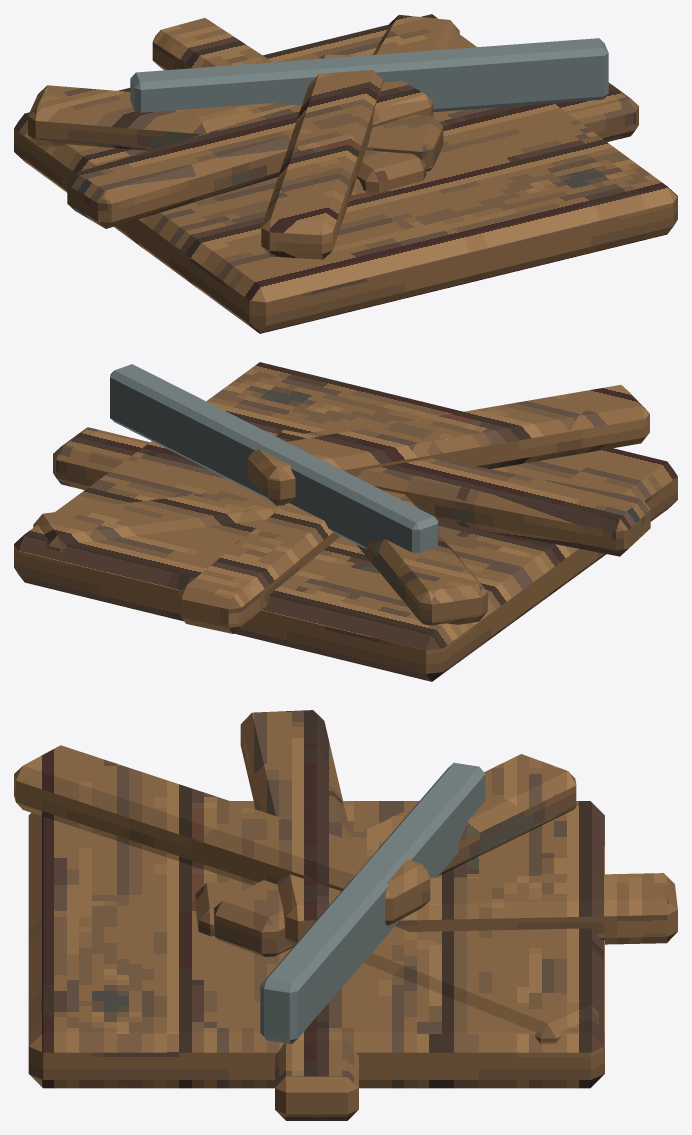
Rendered from caixa_quebrada.glb.
3 renders of one model, top to bottom at view 1: azimuth 30°, elevation 25°; view 2: azimuth 150°, elevation 25°; view 3: azimuth 270°, elevation 25°, orthographic. The views are drawn at different scales.
Visible parts, largest first — view 1: pedreira_caixa_quebrada; view 2: pedreira_caixa_quebrada; view 3: pedreira_caixa_quebrada.
Boxes of the visible parts, left/top/right/bottom form: pedreira_caixa_quebrada: left=14, top=14, right=677, bottom=333; pedreira_caixa_quebrada: left=14, top=362, right=677, bottom=681; pedreira_caixa_quebrada: left=14, top=710, right=677, bottom=1120.
Size of the model in its own units: 0.85 by 0.1575 by 0.7492.
Materials: 2 (1 with a texture image).
